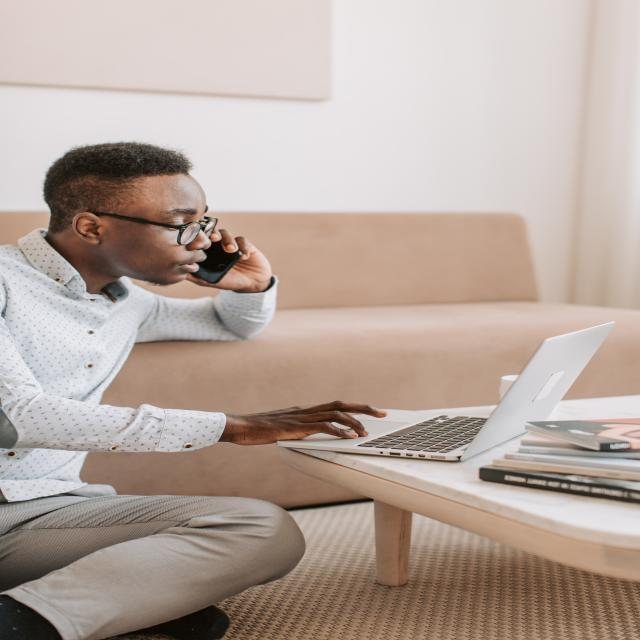phone: (188, 237, 240, 285)
